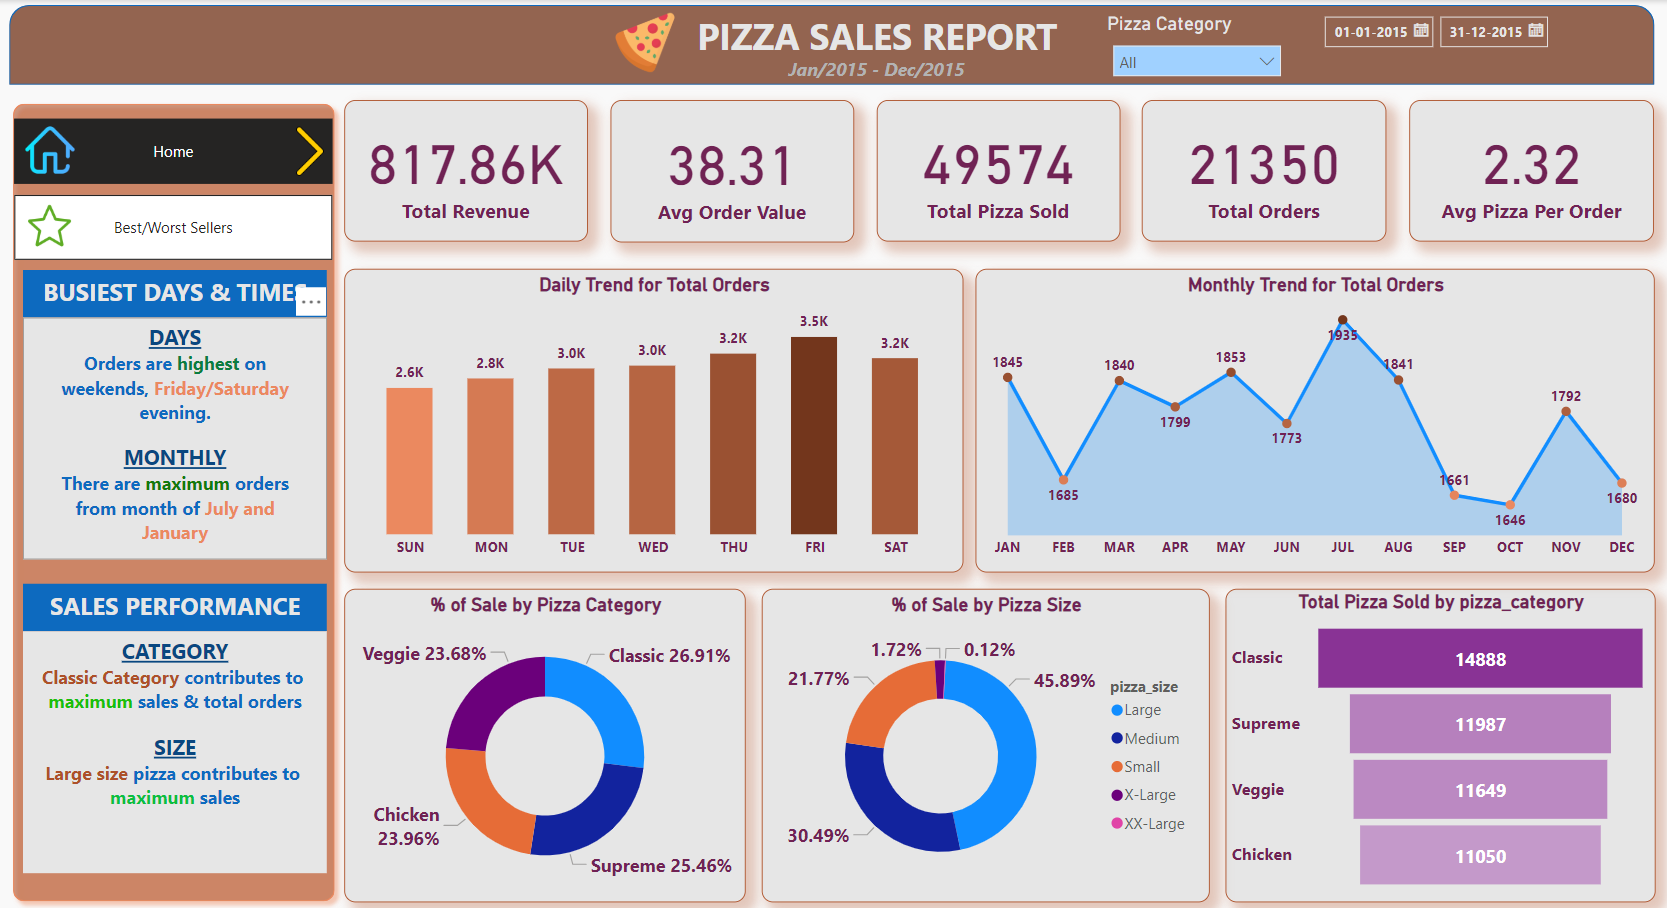

The dashboard page shown, as its layout file describes it:
{"tool":"powerbi","page":{"name":"Home","canvas":[1500,820],"ordinal":0},"visuals":[{"type":"shape","box":[8.8,83.8,305,730],"z":0},{"type":"card","fields":{"Values":["pizza_sales.Total Revenue"]},"box":[313.5,89.5,217.5,126.2],"z":1000},{"type":"card","fields":{"Values":["pizza_sales.Avg Order Value"]},"box":[551,89.5,217.5,127.5],"z":2000},{"type":"card","fields":{"Values":["pizza_sales.Total Sold"]},"box":[788.5,89.5,217.5,126.2],"z":3000},{"type":"card","fields":{"Values":["pizza_sales.Total Orders"]},"box":[1026,89.5,218.8,126.2],"z":4000},{"type":"card","fields":{"Values":["pizza_sales.Avg Pizza Per Order"]},"box":[1264.8,89.5,218.8,126.2],"z":5000},{"type":"shape","box":[15,5,1468.8,71.2],"z":6000},{"type":"textbox","box":[618.8,5.2,342.5,61.2],"z":7000},{"type":"textbox","box":[701.2,45.2,176.2,32.5],"z":8000},{"type":"image","box":[546.2,5.2,72.5,65],"z":9000},{"type":"columnChart","title":"Daily Trend for Total Orders","fields":{"Category":["pizza_sales.Day Name"],"Y":["pizza_sales.Total Orders"]},"box":[313.8,240,552.5,271.2],"z":10000},{"type":"donutChart","title":"% of Sale by Pizza Category","fields":{"Category":["pizza_sales.pizza_category"],"Y":["pizza_sales.Total Revenue"]},"box":[314.1,525.5,358.8,280],"z":11000},{"type":"funnel","fields":{"Category":["pizza_sales.pizza_category"],"Y":["pizza_sales.Total Pizza Sold"]},"box":[1100.3,525.5,383.8,280],"z":12000},{"type":"areaChart","title":"Monthly Trend for Total Orders","fields":{"Category":["pizza_sales.Month Name"],"Y":["pizza_sales.Total Orders"]},"box":[877.5,240,606.2,271.2],"z":13000},{"type":"donutChart","title":"% of Sale by Pizza Size","fields":{"Y":["pizza_sales.Total Revenue"],"Category":["pizza_sales.pizza_size"]},"box":[686.6,525.5,400,280],"z":14000},{"type":"slicer","title":"Pizza Category","fields":{"Values":["pizza_sales.pizza_category"]},"box":[990,11.5,170,65],"z":15000},{"type":"slicer","fields":{"Values":["pizza_sales.order_date"]},"box":[1176.2,5,230,71.2],"z":16000},{"type":"textbox","box":[26.4,241.4,271.5,42],"z":17000},{"type":"textbox","box":[26.4,283.5,271.5,216.2],"z":18000},{"type":"textbox","box":[26.4,521.3,271.5,42],"z":19000},{"type":"textbox","box":[26.4,563.3,271.5,216.2],"z":20000},{"type":"pageNavigator","box":[19.2,105.7,284.7,127.3],"z":21000},{"type":"image","box":[252.2,108.1,61.3,54.1],"z":22000},{"type":"image","box":[20.4,106.9,61.3,54.1],"z":23000},{"type":"image","box":[20.4,177.8,61.3,48],"z":24000}]}

Visuals, with their boxes in screenshot pixels (x1, y1, x2, y2), scaled from the page's 1500x820 canvas onto the 1667x908 screenshot:
shape: (x1=10, y1=93, x2=349, y2=901)
card - pizza_sales.Total Revenue: (x1=348, y1=99, x2=590, y2=239)
card - pizza_sales.Avg Order Value: (x1=612, y1=99, x2=854, y2=240)
card - pizza_sales.Total Sold: (x1=876, y1=99, x2=1118, y2=239)
card - pizza_sales.Total Orders: (x1=1140, y1=99, x2=1383, y2=239)
card - pizza_sales.Avg Pizza Per Order: (x1=1406, y1=99, x2=1649, y2=239)
shape: (x1=17, y1=6, x2=1649, y2=84)
textbox: (x1=688, y1=6, x2=1068, y2=74)
textbox: (x1=779, y1=50, x2=975, y2=86)
image: (x1=607, y1=6, x2=688, y2=78)
"Daily Trend for Total Orders" columnChart: (x1=349, y1=266, x2=963, y2=566)
"% of Sale by Pizza Category" donutChart: (x1=349, y1=582, x2=748, y2=892)
funnel - pizza_sales.pizza_category x pizza_sales.Total Pizza Sold: (x1=1223, y1=582, x2=1649, y2=892)
"Monthly Trend for Total Orders" areaChart: (x1=975, y1=266, x2=1649, y2=566)
"% of Sale by Pizza Size" donutChart: (x1=763, y1=582, x2=1208, y2=892)
"Pizza Category" slicer: (x1=1100, y1=13, x2=1289, y2=85)
slicer - pizza_sales.order_date: (x1=1307, y1=6, x2=1563, y2=84)
textbox: (x1=29, y1=267, x2=331, y2=314)
textbox: (x1=29, y1=314, x2=331, y2=553)
textbox: (x1=29, y1=577, x2=331, y2=624)
textbox: (x1=29, y1=624, x2=331, y2=863)
pageNavigator: (x1=21, y1=117, x2=338, y2=258)
image: (x1=280, y1=120, x2=348, y2=180)
image: (x1=23, y1=118, x2=91, y2=178)
image: (x1=23, y1=197, x2=91, y2=250)
